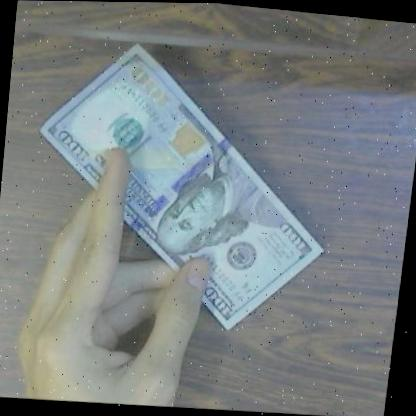one_hundred-front: (15, 29, 350, 352)
